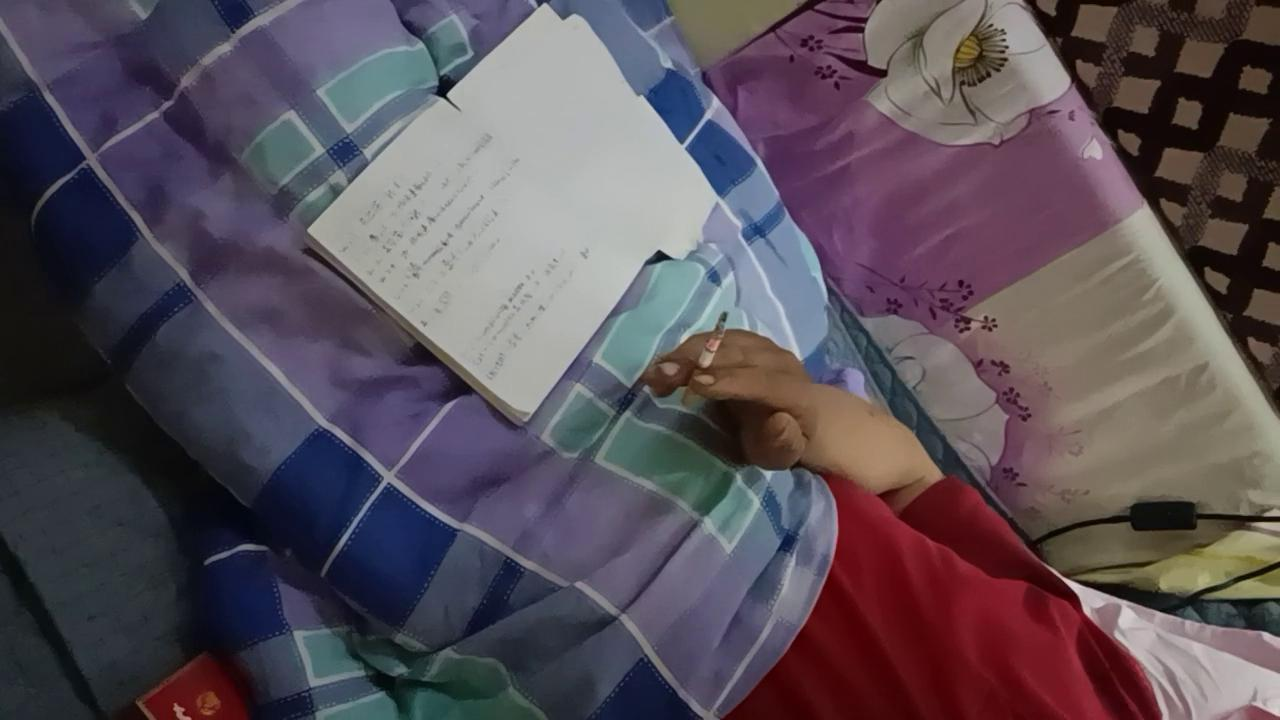smoke: (681, 312, 729, 408)
